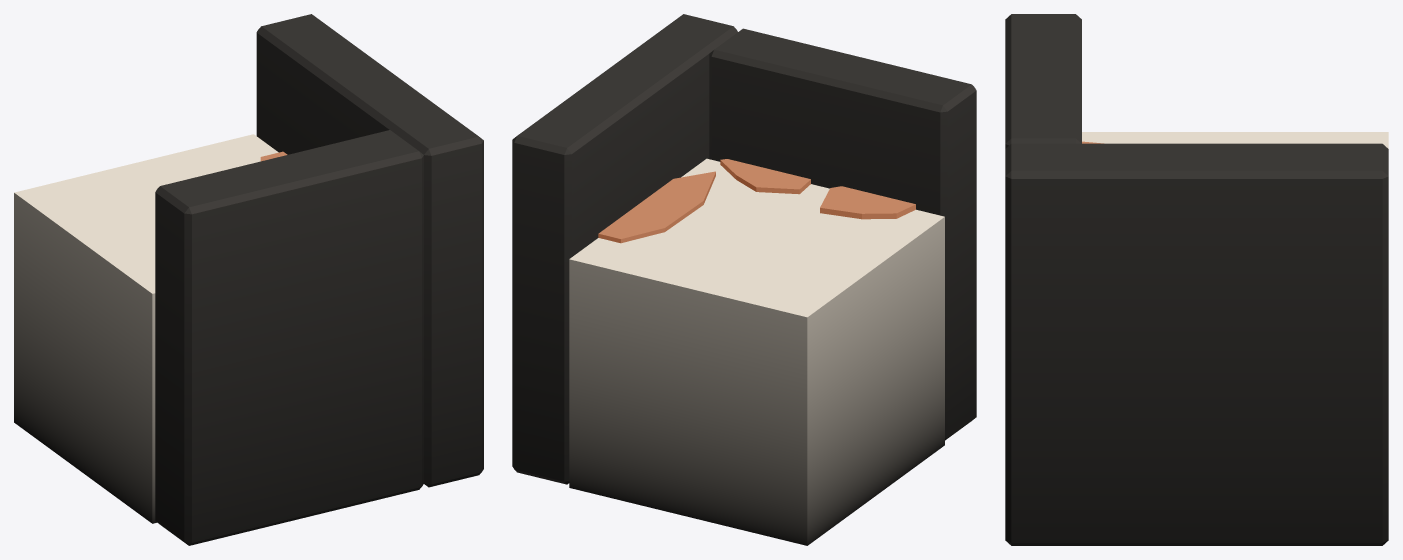
Rendered from SM_VKI_Ground_Lava_OOOX.fbx.
3 renders of one model, left to right at view 1: azimuth 30°, elevation 25°; view 2: azimuth 150°, elevation 25°; view 3: azimuth 270°, elevation 25°, orthographic. The views are drawn at different scales.
Visible parts, largest first — view 1: SM_VKI_Ground_Lava_OOOX.001; view 2: SM_VKI_Ground_Lava_OOOX.001; view 3: SM_VKI_Ground_Lava_OOOX.001.
Boxes of the visible parts, bbox=[...] form: SM_VKI_Ground_Lava_OOOX.001: bbox=[14, 14, 483, 545]; SM_VKI_Ground_Lava_OOOX.001: bbox=[512, 14, 976, 545]; SM_VKI_Ground_Lava_OOOX.001: bbox=[1005, 14, 1388, 545].
Bounding box in the file's own units: 0.75 × 0.81 × 0.75.
